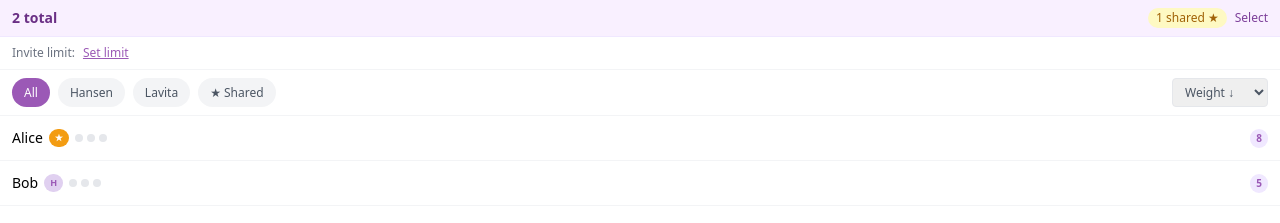
Test: CombinedList › shows select button and enters selection mode
Step 1. Click the button "Select" → (1251, 18), box [1235,10,1268,26]
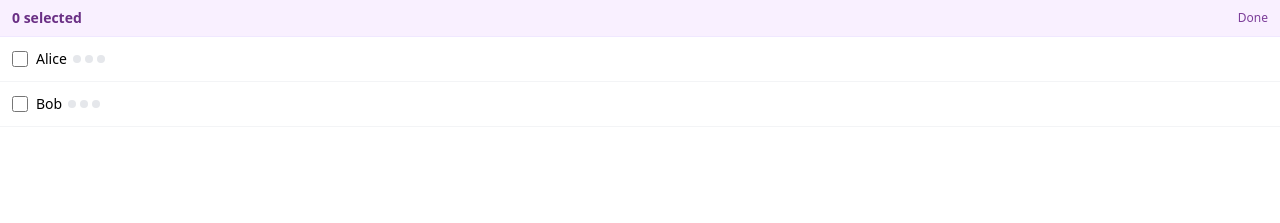
Check: the button "Done" is shown, box [1238,10,1268,26]
